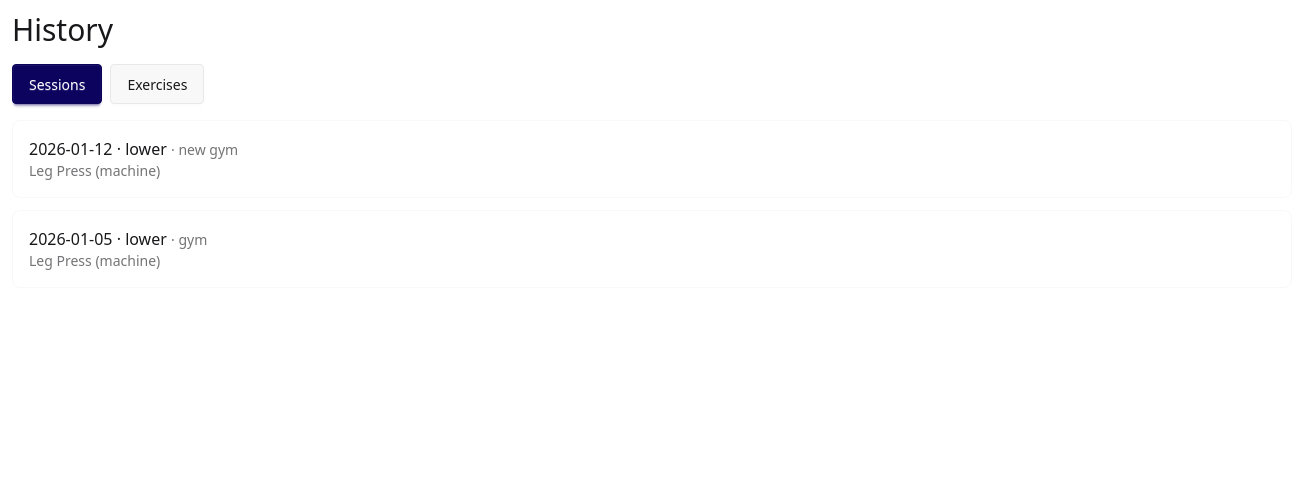
History › shows a Correction as the new value with the previous one visible
What coordinates should you click on to do the following:
click the button "2026-01-12 · lower · new gym Leg Press (machine)"
I would click on:
 (100, 149)
Its box is left=12, top=120, right=1292, bottom=198.
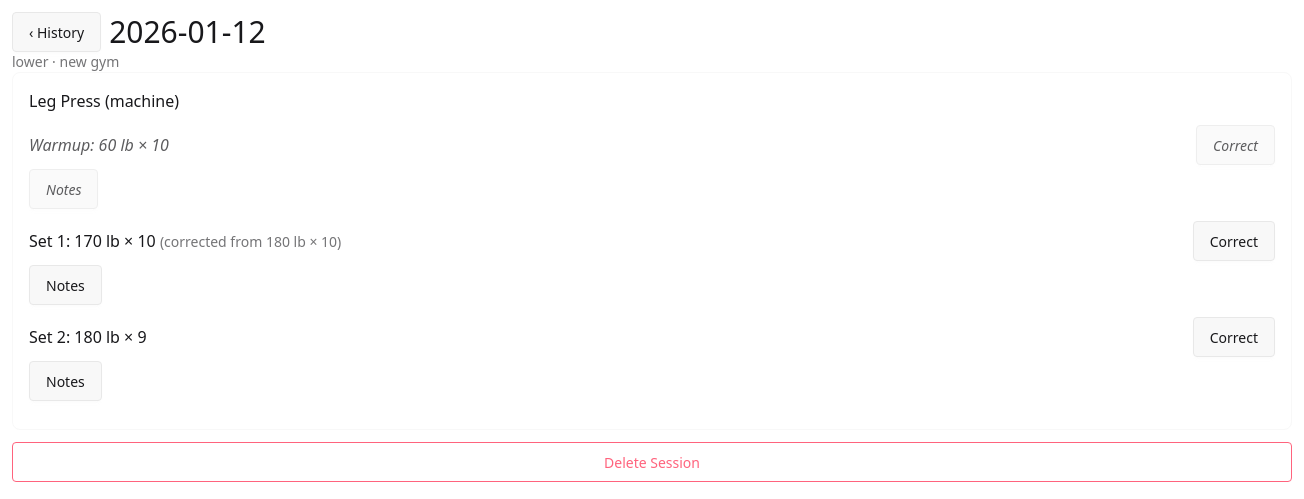
Check: the text "Set 1: 170 lb × 10 (corrected from 180 lb × 10)" is shown, box left=29, top=230, right=341, bottom=252
Check: the text "(corrected from 180 lb × 10)" is shown, box left=160, top=232, right=341, bottom=251
